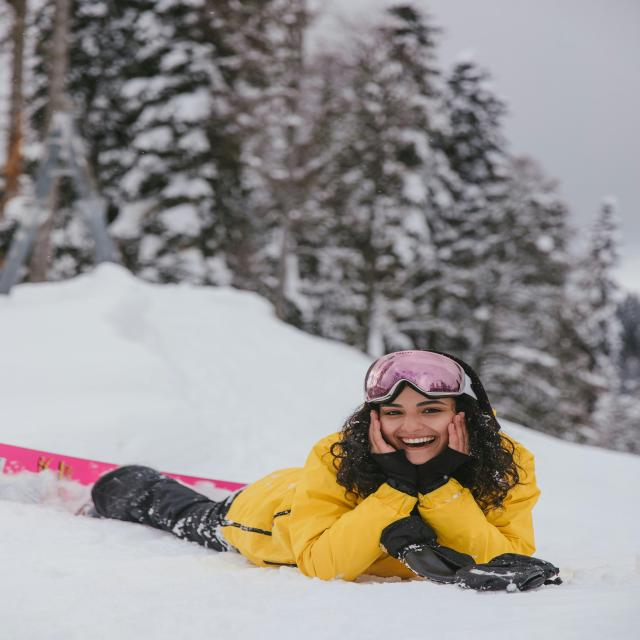lie: (0, 346, 557, 570)
